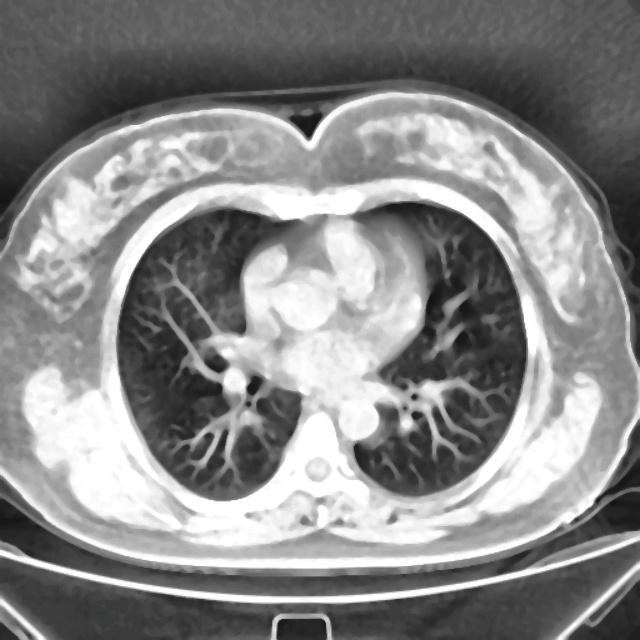covid: (0, 79, 639, 577)
